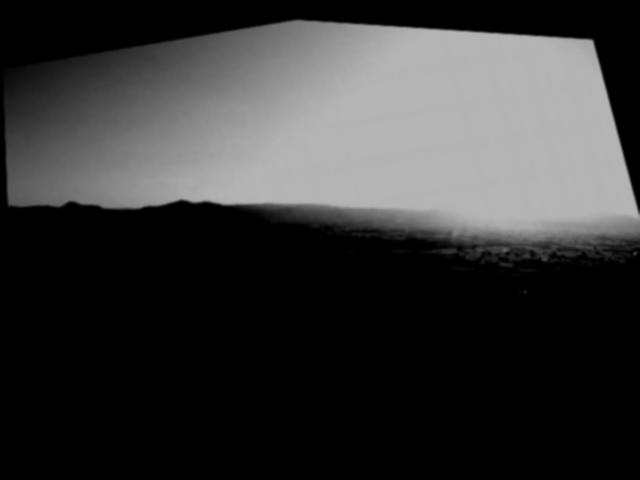hedef: (325, 249, 413, 314)
